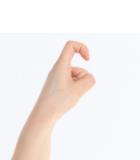anticlockwise: (40, 40, 99, 116)
